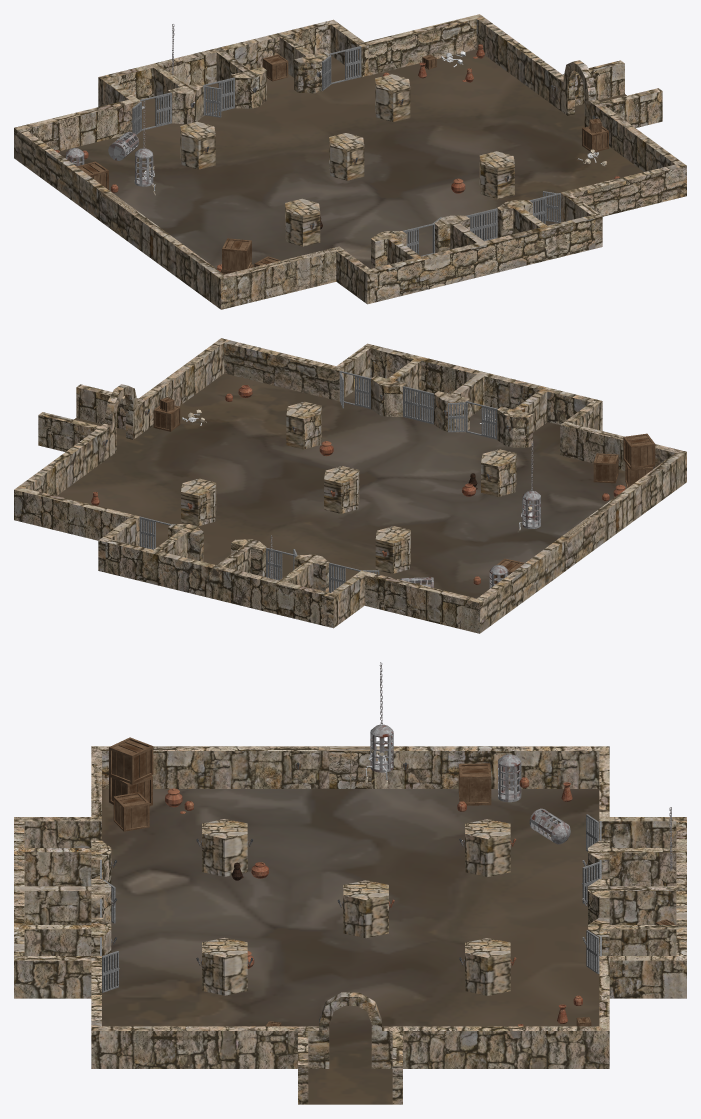
The model's file is room1.glb.
3 views of the same model, one above another, from view 1: azimuth 30°, elevation 25°; view 2: azimuth 150°, elevation 25°; view 3: azimuth 270°, elevation 25° (orthographic). The views are drawn at different scales.
Visible parts, largest first — view 1: sciany.004, sciany.005, sciany.001, sciany.006, sciany.003, sciany.002, sciany.007, kraty_7, Cube.005, kraty_8, kraty_9, kraty_3 (+6 smaller); view 2: sciany.004, sciany.005, sciany.002, sciany.007, sciany.001, sciany.003, sciany.006, kraty_2, Cube.005, kraty, Cube.007, kraty_3 (+5 smaller); view 3: sciany.004, sciany.005, sciany.003, sciany.002, sciany.006, sciany.007, sciany.001, Cube.005, Cube.006, Cube.007, klatka_5, klatka_3 (+3 smaller).
Boxes of the visible parts, x1=… form: sciany.004: x1=59, y1=49, x2=643, y2=268; sciany.005: x1=14, y1=14, x2=686, y2=309; sciany.001: x1=285, y1=198, x2=320, y2=246; sciany.006: x1=375, y1=74, x2=410, y2=121; sciany.003: x1=180, y1=121, x2=215, y2=169; sciany.002: x1=479, y1=151, x2=514, y2=198; sciany.007: x1=329, y1=133, x2=364, y2=180; kraty_7: x1=203, y1=77, x2=234, y2=117; Cube.005: x1=222, y1=238, x2=251, y2=272; kraty_8: x1=322, y1=46, x2=361, y2=90; kraty_9: x1=131, y1=92, x2=171, y2=134; kraty_3: x1=529, y1=191, x2=560, y2=225; sciany.004: x1=57, y1=373, x2=626, y2=598; sciany.005: x1=14, y1=338, x2=686, y2=633; sciany.002: x1=286, y1=401, x2=321, y2=449; sciany.007: x1=324, y1=466, x2=359, y2=513; sciany.001: x1=481, y1=449, x2=516, y2=496; sciany.003: x1=375, y1=526, x2=410, y2=573; sciany.006: x1=181, y1=478, x2=216, y2=526; kraty_2: x1=448, y1=401, x2=497, y2=439; Cube.005: x1=623, y1=433, x2=655, y2=469; kraty: x1=403, y1=386, x2=434, y2=424; Cube.007: x1=593, y1=453, x2=618, y2=483; kraty_3: x1=339, y1=371, x2=370, y2=408; sciany.004: x1=102, y1=789, x2=599, y2=1104; sciany.005: x1=14, y1=746, x2=686, y2=1104; sciany.003: x1=465, y1=819, x2=510, y2=876; sciany.002: x1=202, y1=937, x2=247, y2=995; sciany.006: x1=465, y1=938, x2=510, y2=995; sciany.007: x1=343, y1=880, x2=388, y2=938; sciany.001: x1=202, y1=819, x2=247, y2=876; Cube.005: x1=109, y1=737, x2=153, y2=784; Cube.006: x1=458, y1=763, x2=491, y2=805; Cube.007: x1=113, y1=792, x2=149, y2=831; klatka_5: x1=498, y1=754, x2=521, y2=802; klatka_3: x1=370, y1=724, x2=393, y2=772.
Bounding box in the file's own units: 36 × 7.72 × 32.
Materials: 12 (10 with a texture image).
